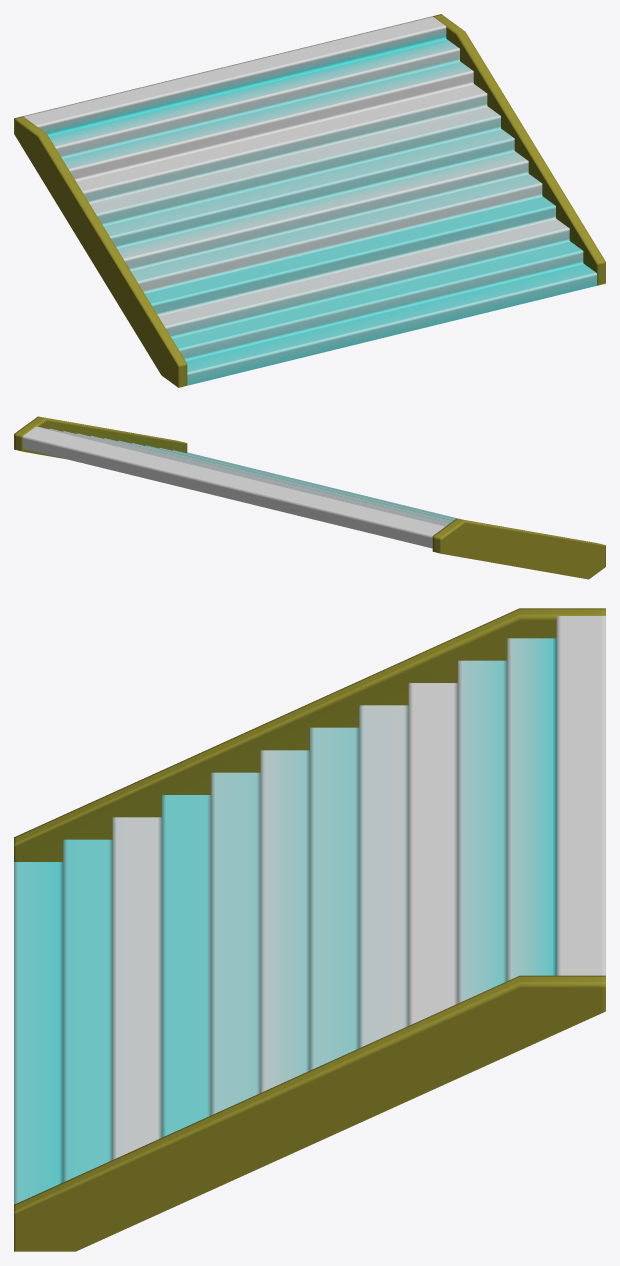
Rendered from SM_SmoothStairs6m.fbx.
The picture shows the model from 3 angles, top to bottom: view 1: azimuth 30°, elevation 25°; view 2: azimuth 150°, elevation 25°; view 3: azimuth 270°, elevation 25°; orthographic projection. The views are drawn at different scales.
Visible parts, largest first — view 1: SM_SmoothStairs6m; view 2: SM_SmoothStairs6m; view 3: SM_SmoothStairs6m.
Boxes of the visible parts, x1,y1,x2,y2 form: SM_SmoothStairs6m: [14, 14, 605, 387]; SM_SmoothStairs6m: [14, 416, 605, 579]; SM_SmoothStairs6m: [14, 608, 605, 1251].
Size of the model in its own units: 600 by 200 by 400.
